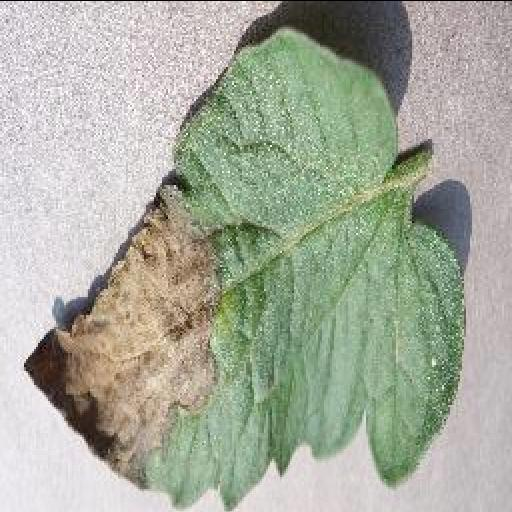disease_tomato: (20, 28, 464, 512)
